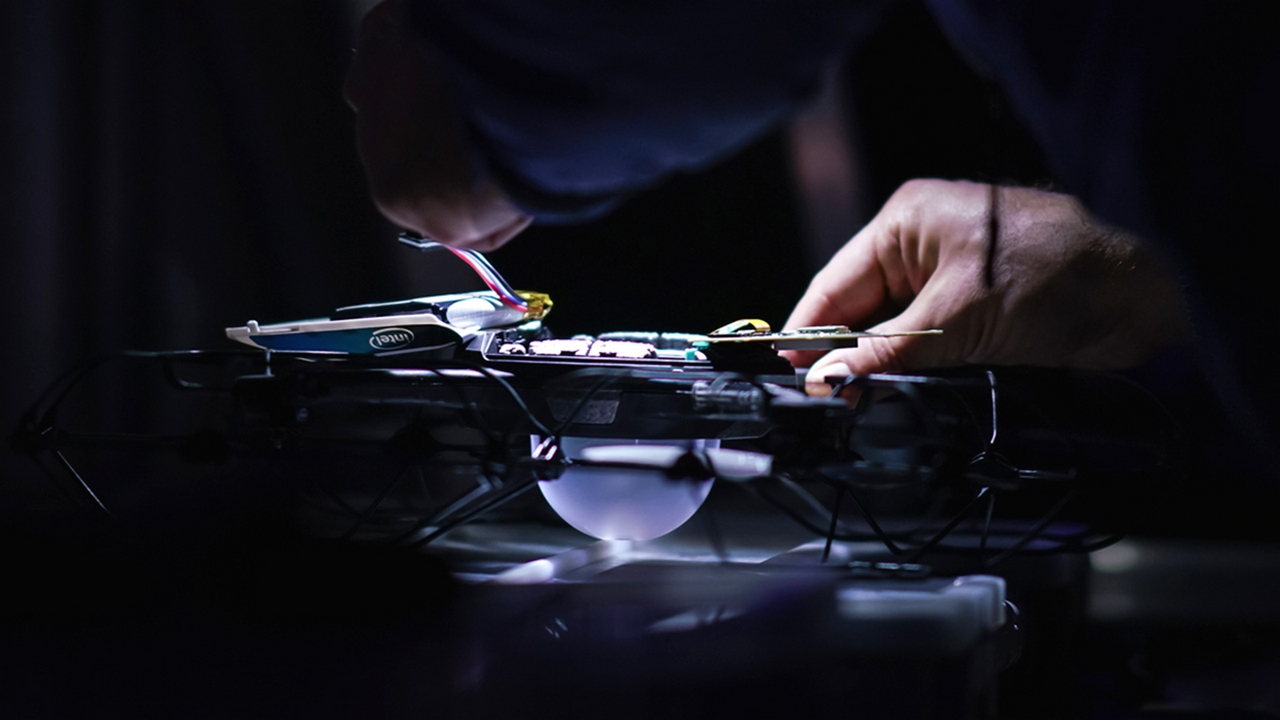drone: (13, 281, 1168, 575)
person: (333, 1, 1280, 434)
